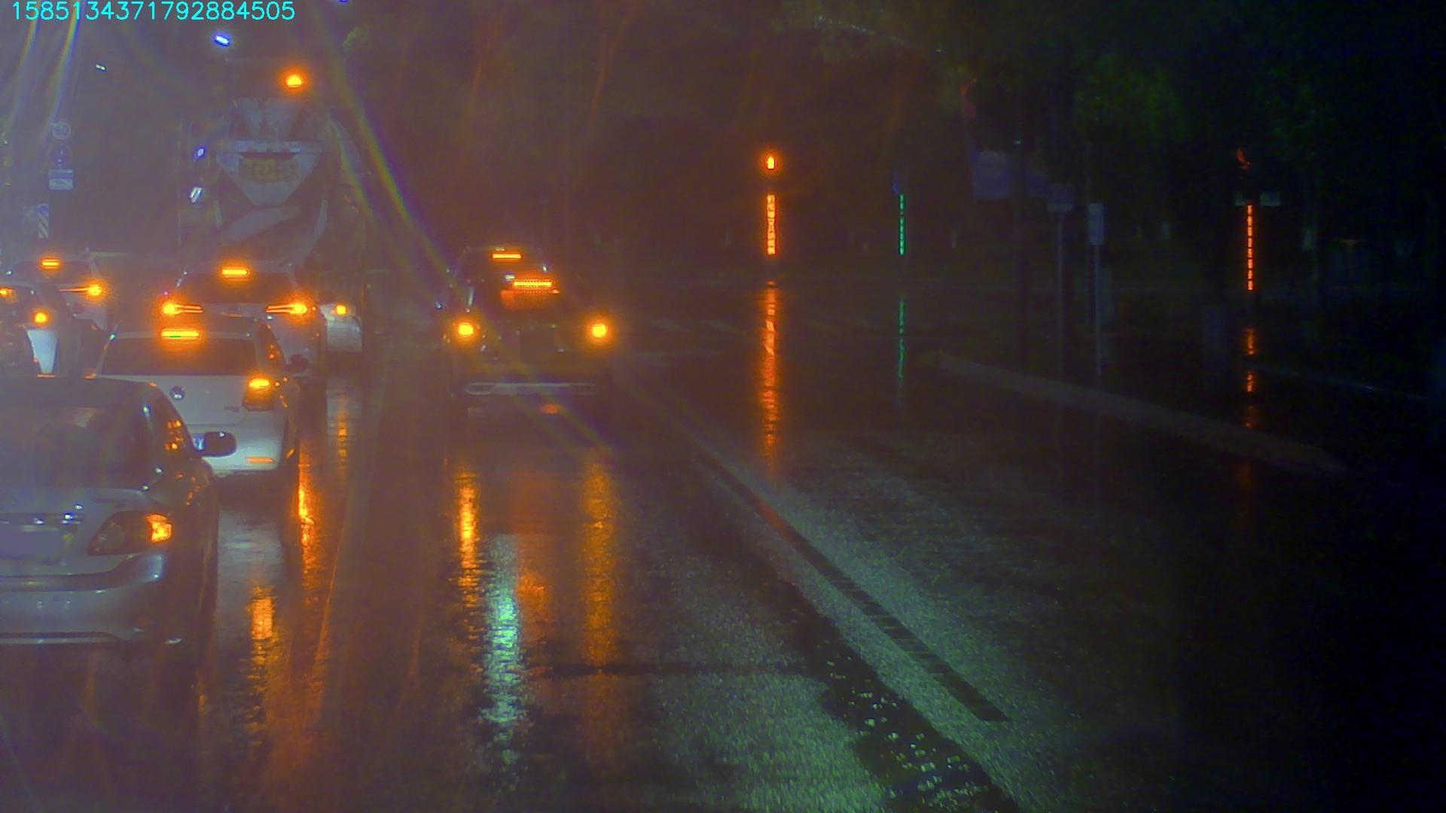red: (277, 62, 310, 92)
